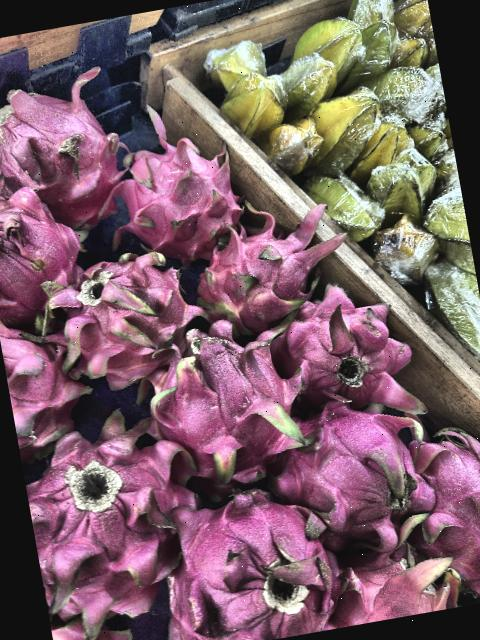buah-naga-matang: (19, 423, 192, 628), (152, 474, 342, 640), (138, 308, 304, 496), (273, 273, 440, 442), (278, 384, 439, 551), (0, 60, 131, 224), (104, 118, 246, 259), (45, 250, 193, 376), (191, 206, 344, 323), (0, 305, 104, 452), (0, 164, 96, 319), (403, 421, 480, 597), (326, 532, 461, 627)
